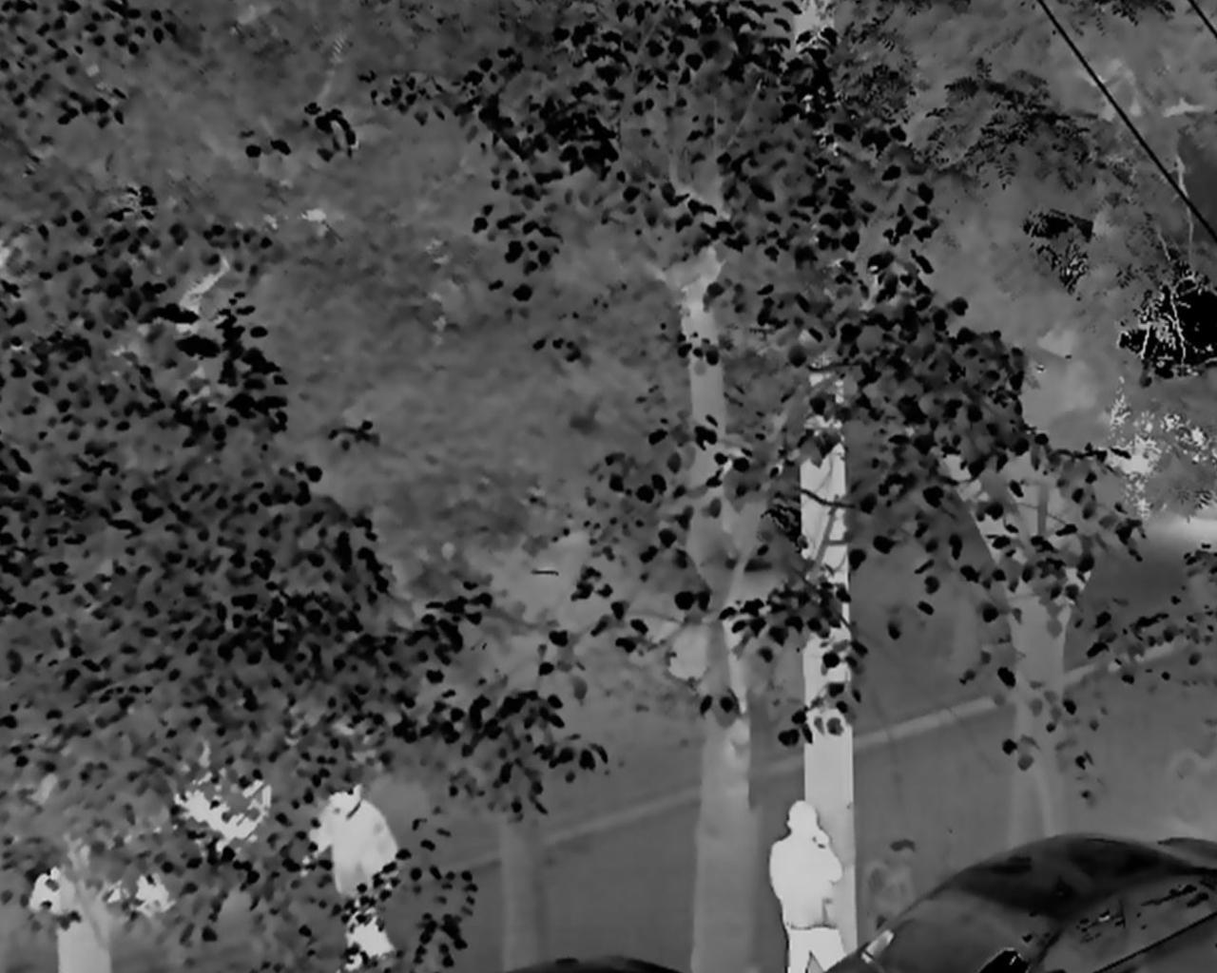person: (311, 773, 406, 973), (770, 799, 856, 972)
